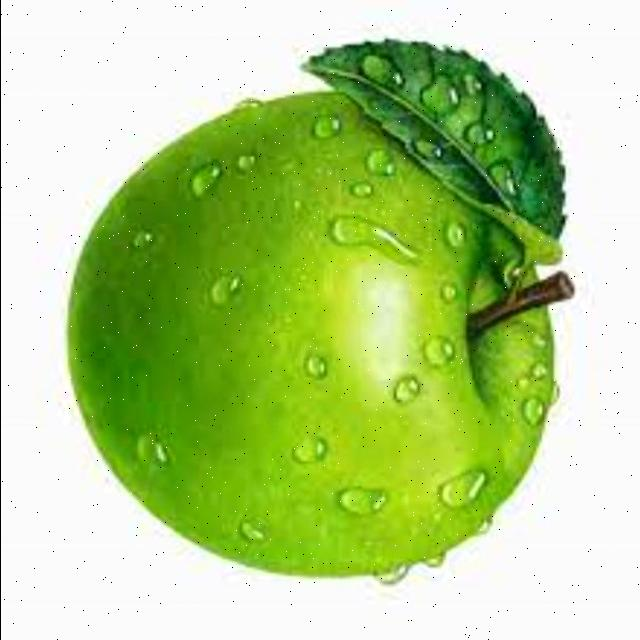HEALTHY: (32, 55, 588, 588)
